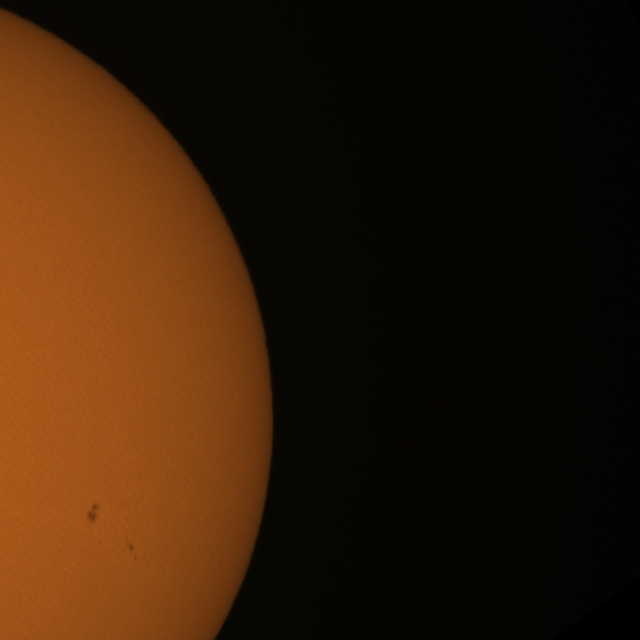sunspot: (127, 542, 142, 564), (86, 502, 101, 524)
